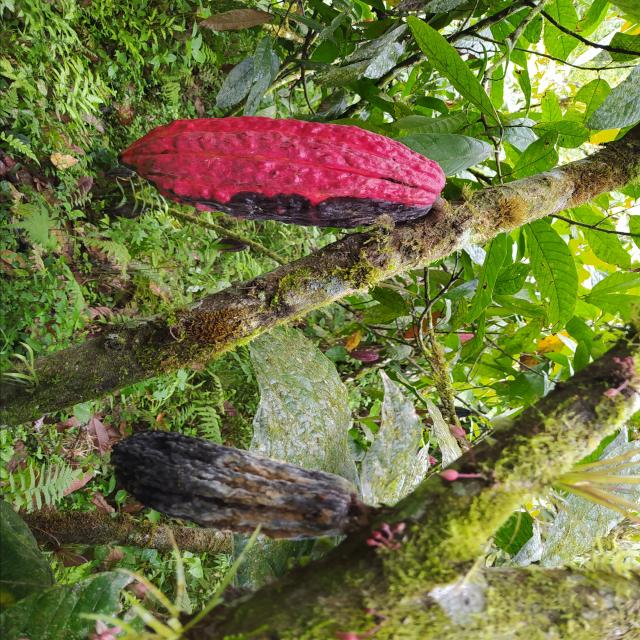Fitoftora: (115, 114, 447, 228), (108, 424, 362, 542)
